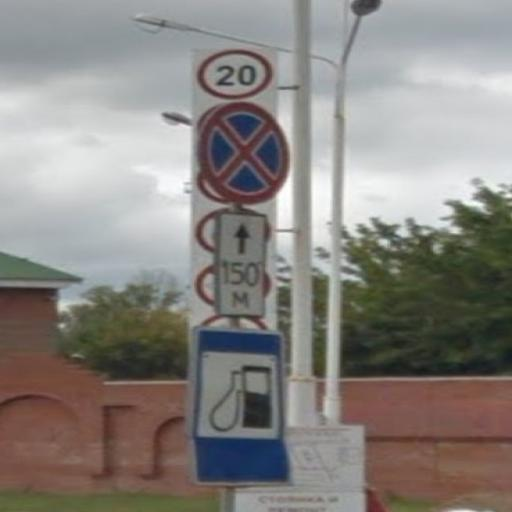traffic_sign: (188, 326, 298, 488), (199, 101, 294, 206), (200, 48, 277, 101)
